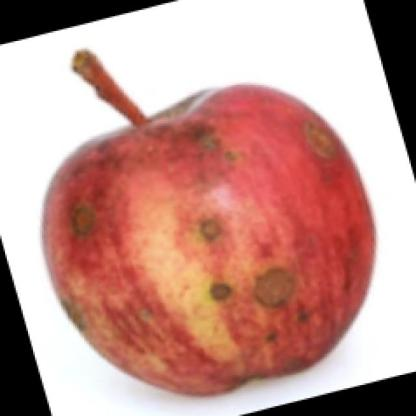defect: (196, 252, 328, 354), (280, 106, 374, 180), (180, 110, 264, 184), (170, 194, 250, 260), (61, 204, 115, 256)
